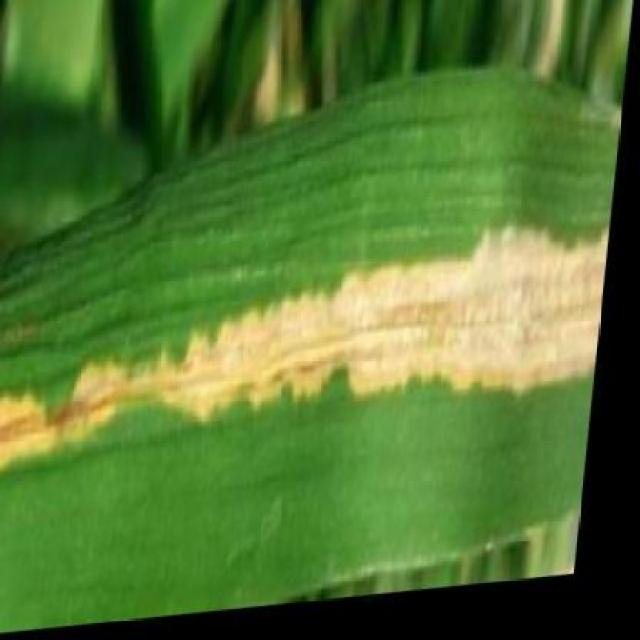Brown_Spot: (0, 154, 622, 520)
